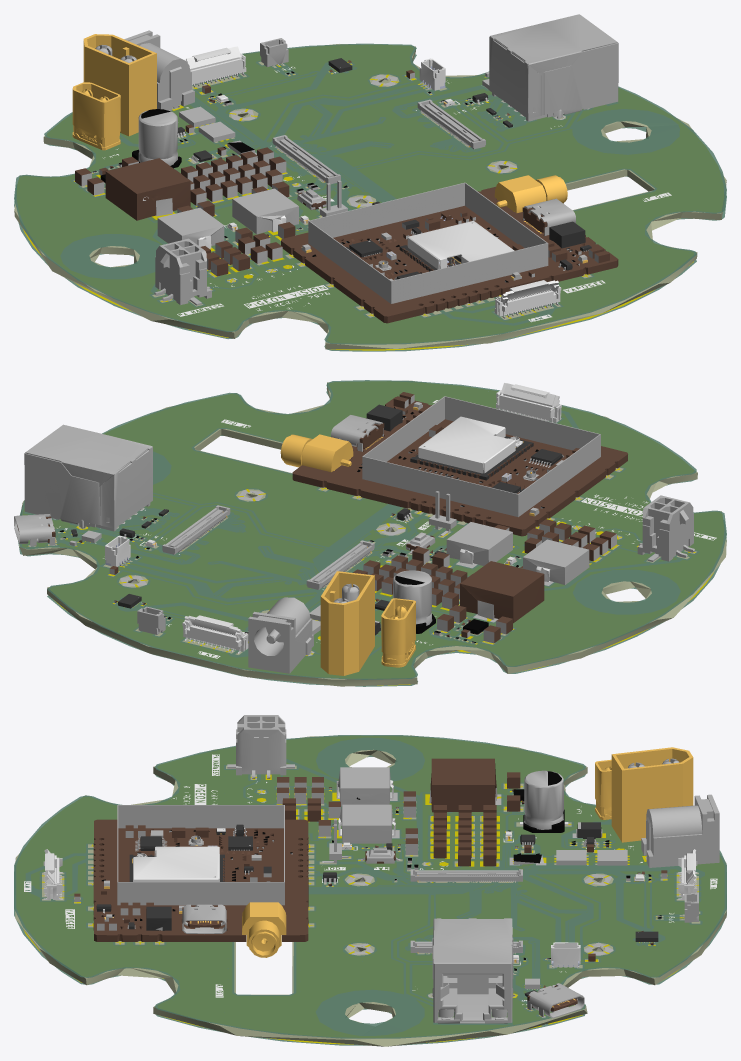
Rendered from pigeon-carrier.glb.
3 views of the same model, one above another, from view 1: azimuth 30°, elevation 25°; view 2: azimuth 150°, elevation 25°; view 3: azimuth 270°, elevation 25° (orthographic).
Parts seen in each view (by area): view 1: pigeon-carrier; view 2: pigeon-carrier; view 3: pigeon-carrier.
Part boxes in pixels (x1,y1,x2,y2): pigeon-carrier: (14,14,726,351); pigeon-carrier: (14,380,726,686); pigeon-carrier: (14,715,726,1046).
Size of the model in its own units: 0.1458 by 0.0198 by 0.1433.
